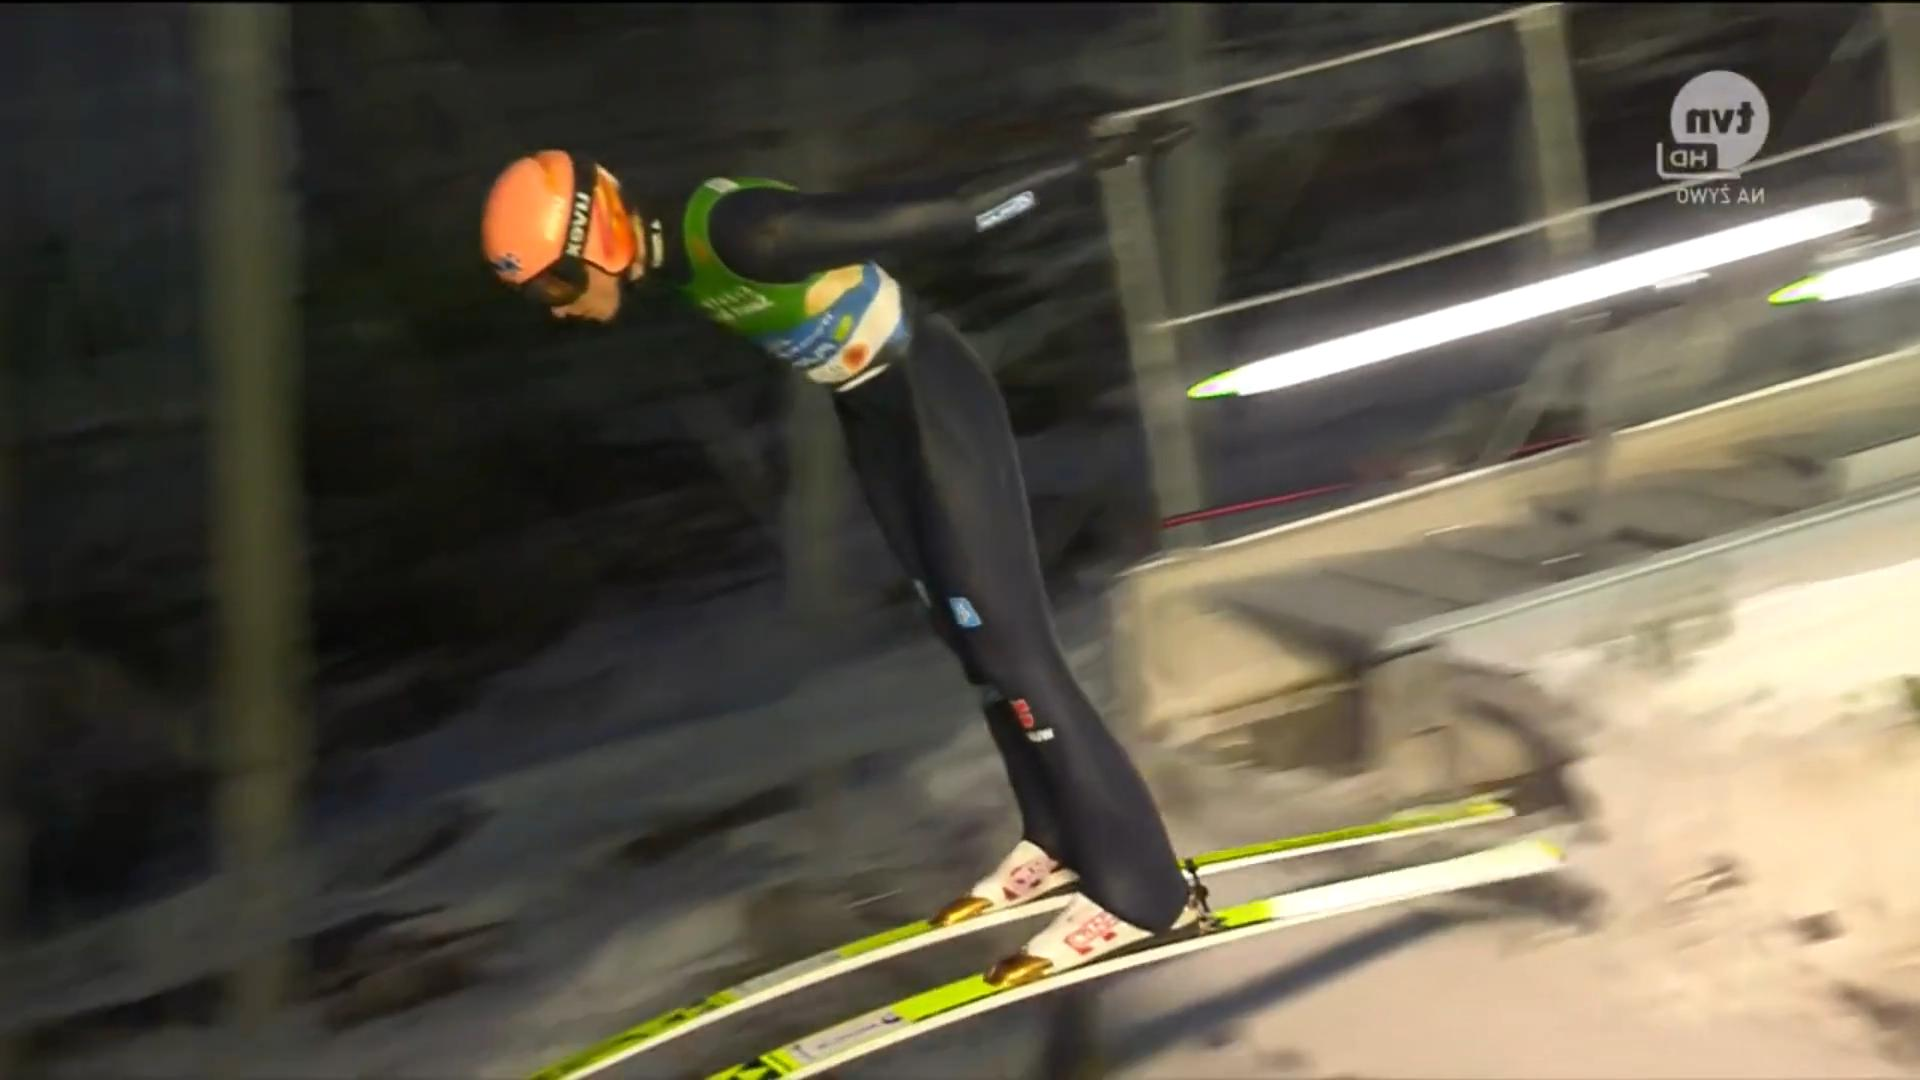prog: (1201, 588, 1523, 724)
